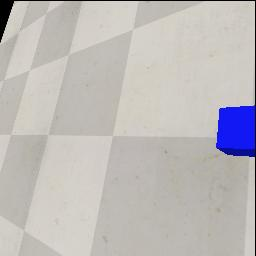box: (216, 105, 255, 157)
